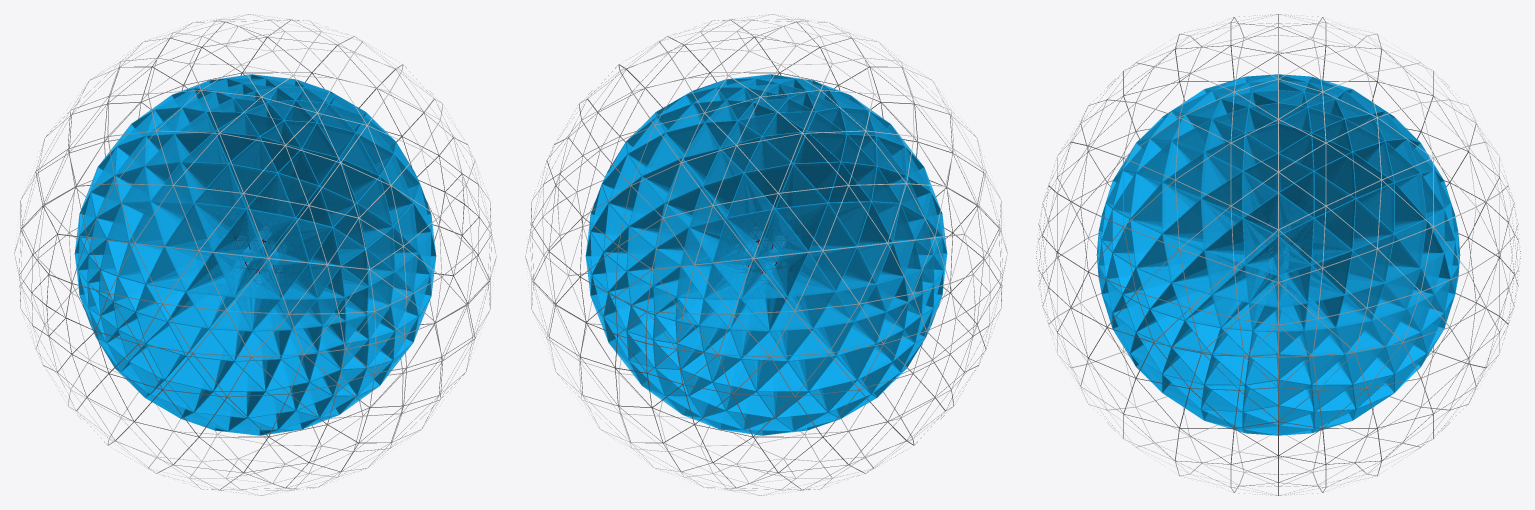
Rendered from disorient-webgl.obj.
3 views of the same model, side by side, from view 1: azimuth 30°, elevation 25°; view 2: azimuth 150°, elevation 25°; view 3: azimuth 270°, elevation 25° (orthographic).
Visible parts, largest first — view 1: B, B1; view 2: B, B1; view 3: B, B1.
Boxes of the visible parts, <box> form: B: <box>74,74,436,435</box>; B1: <box>14,14,496,495</box>; B: <box>585,74,947,435</box>; B1: <box>525,14,1007,495</box>; B: <box>1096,74,1460,435</box>; B1: <box>1036,14,1520,495</box>.
Bounding box in the file's own units: 4 × 4 × 4.
